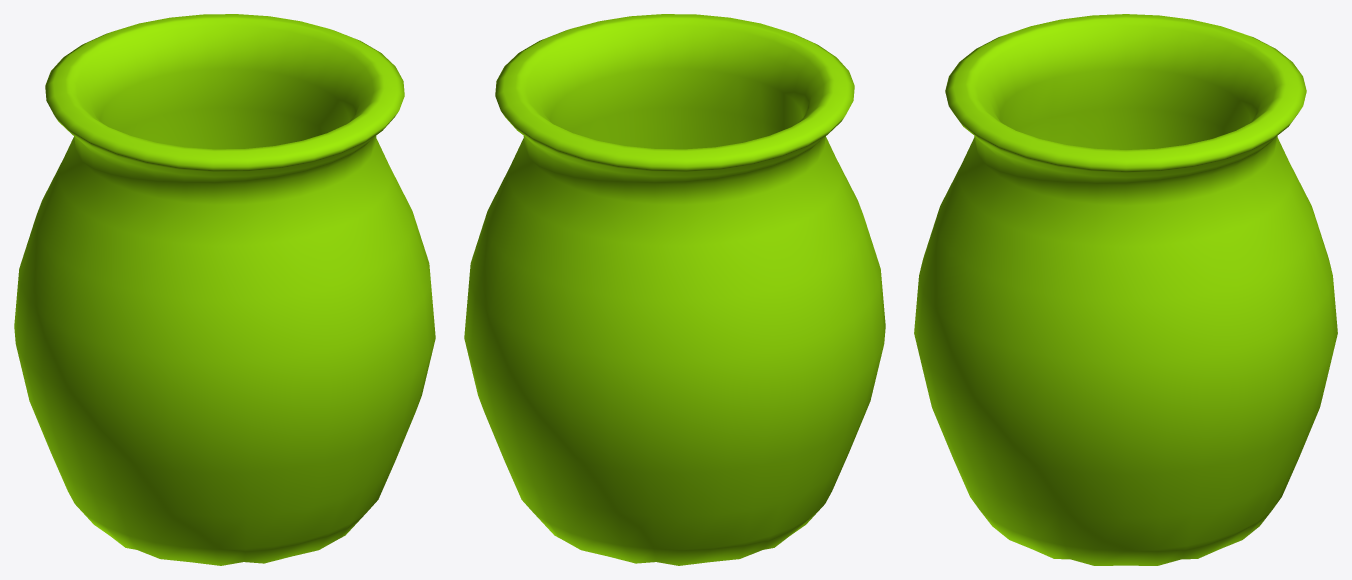
Rendered from Jar_02.fbx.
3 views of the same model, side by side, from view 1: azimuth 30°, elevation 25°; view 2: azimuth 150°, elevation 25°; view 3: azimuth 270°, elevation 25° (orthographic).
Visible parts, largest first — view 1: Jar_02; view 2: Jar_02; view 3: Jar_02.
Boxes of the visible parts, x1,y1,x2,y2 form: Jar_02: [14, 14, 435, 565]; Jar_02: [464, 14, 885, 565]; Jar_02: [914, 14, 1337, 565].
Bounding box in the file's own units: 43.86 × 49.51 × 43.86.
